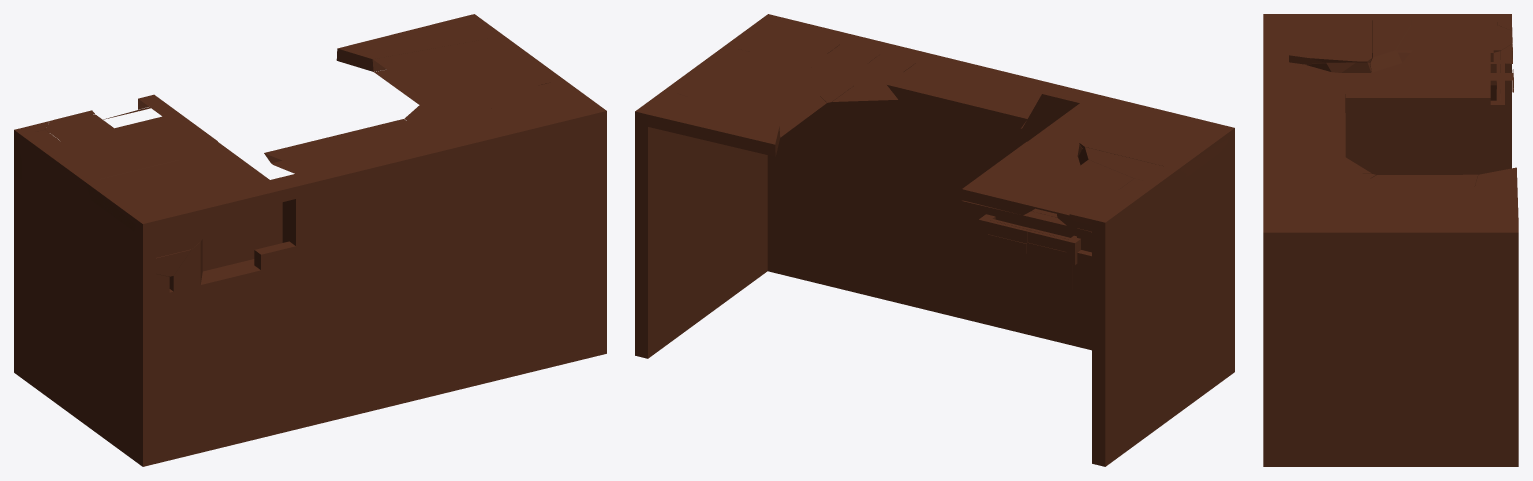
The model's file is buro_table_kaputt.glb.
3 views of the same model, side by side, from view 1: azimuth 30°, elevation 25°; view 2: azimuth 150°, elevation 25°; view 3: azimuth 270°, elevation 25° (orthographic). The views are drawn at different scales.
Parts seen in each view (by area): view 1: Cube_cell.082, Cube_cell.032, Cube_cell.081, Cube_cell.066, Cube_cell.030, Cube_cell.004, Cube_cell.038, Cube_cell.033, Cube_cell.020, Cube_cell.018, Cube_cell.034, Cube_cell.001 (+24 smaller); view 2: Cube_cell.082, Cube_cell.020, Cube_cell.081, Cube_cell.038, Cube_cell.032, Cube_cell.033, Cube_cell.067, Cube_cell.072, Cube_cell.001, Cube_cell.083, Cube_cell.009, Cube_cell.066 (+18 smaller); view 3: Cube_cell.082, Cube_cell.091, Cube_cell.081, Cube_cell.093, Cube_cell.020, Cube_cell.079, Cube_cell.066, Cube_cell.072, Cube_cell.007, Cube_cell.044, Cube_cell.032, Cube_cell.071 (+22 smaller).
Part boxes in pixels (box(x1,y1,x2,y2)): Cube_cell.082: box(14, 15, 606, 466); Cube_cell.032: box(264, 119, 445, 206); Cube_cell.081: box(373, 36, 561, 108); Cube_cell.066: box(62, 116, 295, 330); Cube_cell.030: box(333, 195, 411, 319); Cube_cell.004: box(226, 311, 370, 385); Cube_cell.038: box(370, 256, 521, 366); Cube_cell.033: box(48, 166, 100, 306); Cube_cell.020: box(96, 124, 295, 276); Cube_cell.018: box(43, 272, 100, 390); Cube_cell.034: box(136, 340, 225, 410); Cube_cell.001: box(91, 160, 218, 244); Cube_cell.082: box(635, 14, 1234, 465); Cube_cell.020: box(962, 111, 1234, 283); Cube_cell.081: box(665, 46, 831, 137); Cube_cell.038: box(844, 176, 990, 281); Cube_cell.032: box(887, 53, 1048, 129); Cube_cell.033: box(1139, 168, 1192, 314); Cube_cell.067: box(767, 147, 844, 246); Cube_cell.072: box(635, 89, 780, 156); Cube_cell.001: box(1079, 113, 1225, 189); Cube_cell.083: box(832, 45, 954, 192); Cube_cell.009: box(844, 248, 990, 324); Cube_cell.066: box(962, 103, 1131, 283); Cube_cell.082: box(1263, 14, 1518, 466); Cube_cell.091: box(1346, 267, 1461, 411); Cube_cell.081: box(1346, 174, 1477, 267); Cube_cell.093: box(1263, 345, 1403, 426); Cube_cell.020: box(1289, 50, 1504, 158); Cube_cell.079: box(1404, 345, 1518, 426); Cube_cell.066: box(1289, 50, 1504, 150); Cube_cell.072: box(1457, 167, 1518, 274); Cube_cell.007: box(1276, 426, 1403, 466); Cube_cell.044: box(1272, 274, 1346, 345); Cube_cell.032: box(1263, 91, 1345, 157); Cube_cell.071: box(1404, 426, 1518, 466).
Bounding box in the file's own units: 4 × 2 × 1.98.
